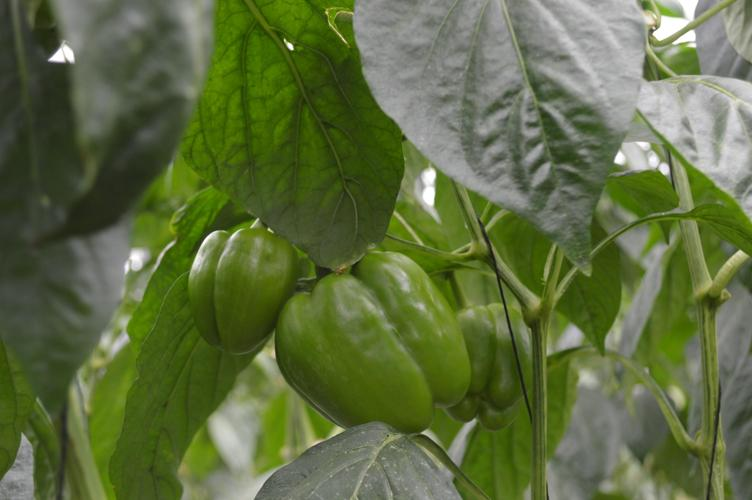BellPepper: (279, 253, 470, 431), (191, 231, 294, 354), (438, 305, 530, 429)
